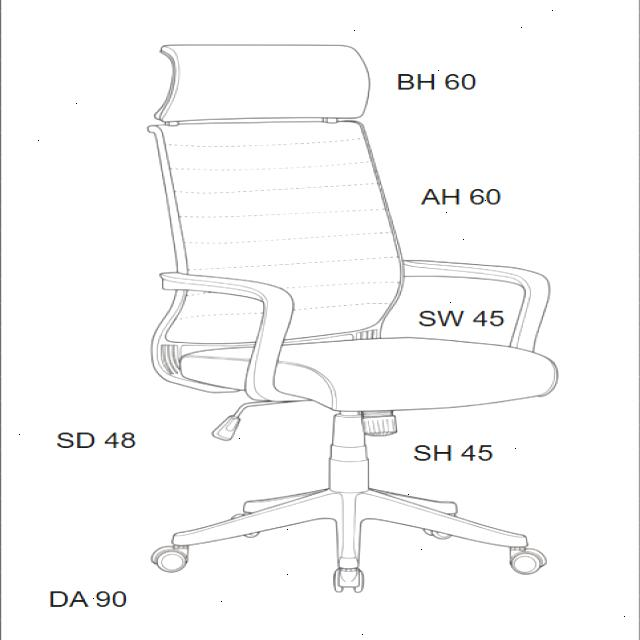5_Star_Base: (148, 487, 550, 597)
AH_Label: (412, 175, 513, 212)
Armrest: (162, 271, 299, 399), (403, 260, 552, 351)
BH_Label: (394, 65, 487, 97)
Backrest: (145, 122, 405, 343)
Control_Mechanism: (213, 396, 302, 447)
DA_Label: (36, 581, 138, 620)
Headrest: (152, 46, 372, 121)
SD_Label: (41, 413, 146, 464)
SH_Label: (408, 430, 498, 475)
SW_Label: (418, 302, 511, 332)
Seat: (181, 334, 561, 411)
